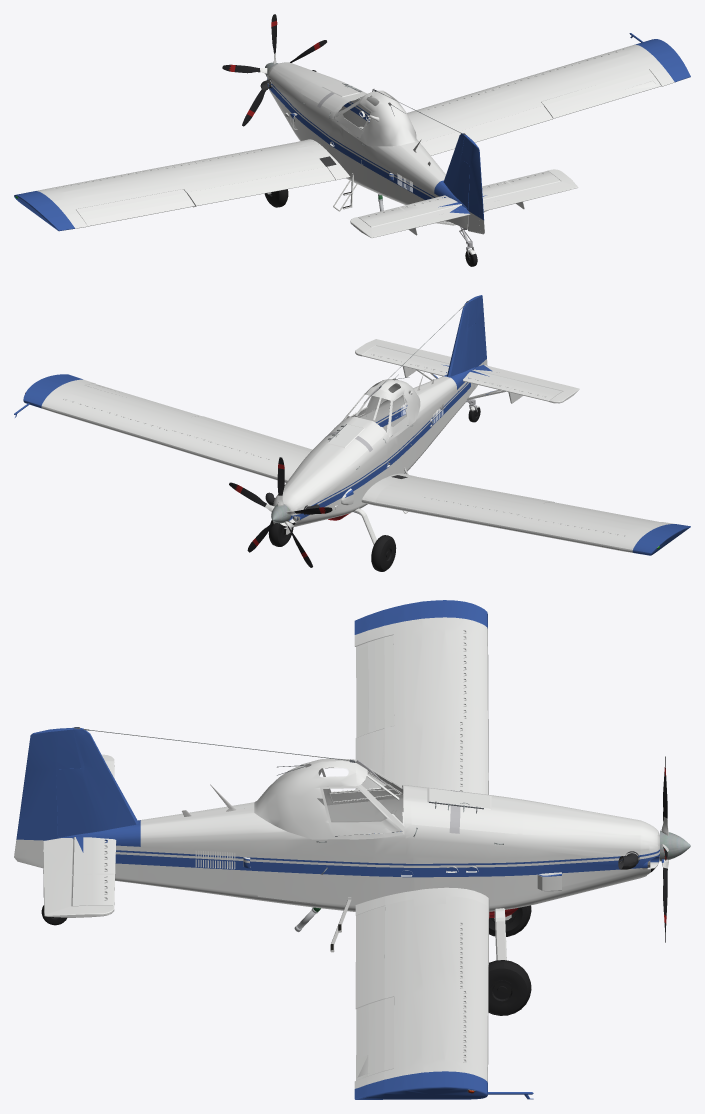
File: exterior.glb
3 views of the same model, one above another, from view 1: azimuth 30°, elevation 25°; view 2: azimuth 150°, elevation 25°; view 3: azimuth 270°, elevation 25° (orthographic). The views are drawn at different scales.
Visible parts, largest first — view 1: exterior; view 2: exterior; view 3: exterior.
Boxes of the visible parts, x1=… form: exterior: x1=14, y1=14, x2=690, y2=266; exterior: x1=14, y1=295, x2=690, y2=571; exterior: x1=14, y1=600, x2=690, y2=1099.
Bounding box in the file's own units: 18.06 × 4.29 × 10.61.
Materials: 25 (5 with a texture image).
